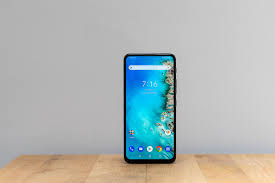asus: (119, 51, 179, 165)
